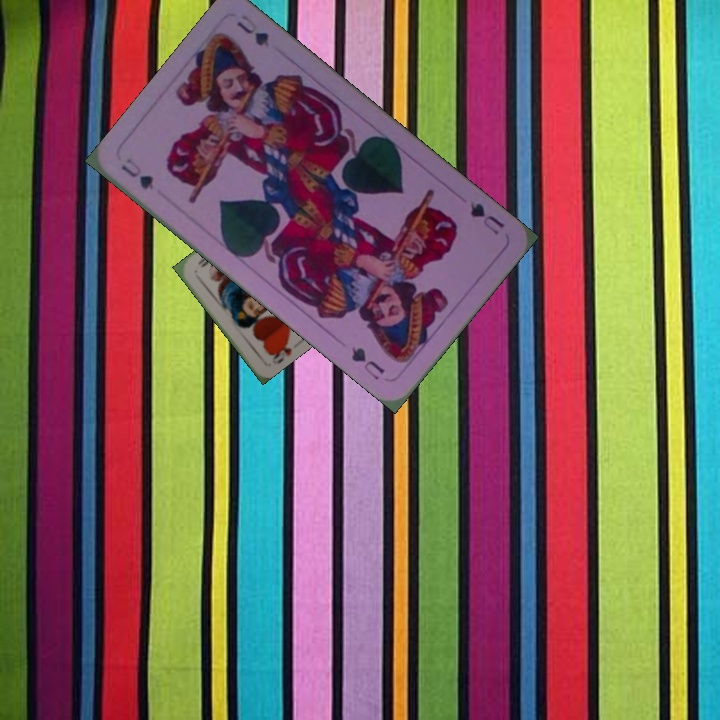GU: (466, 198, 507, 237), (117, 153, 156, 193)
HO: (265, 336, 295, 367)
